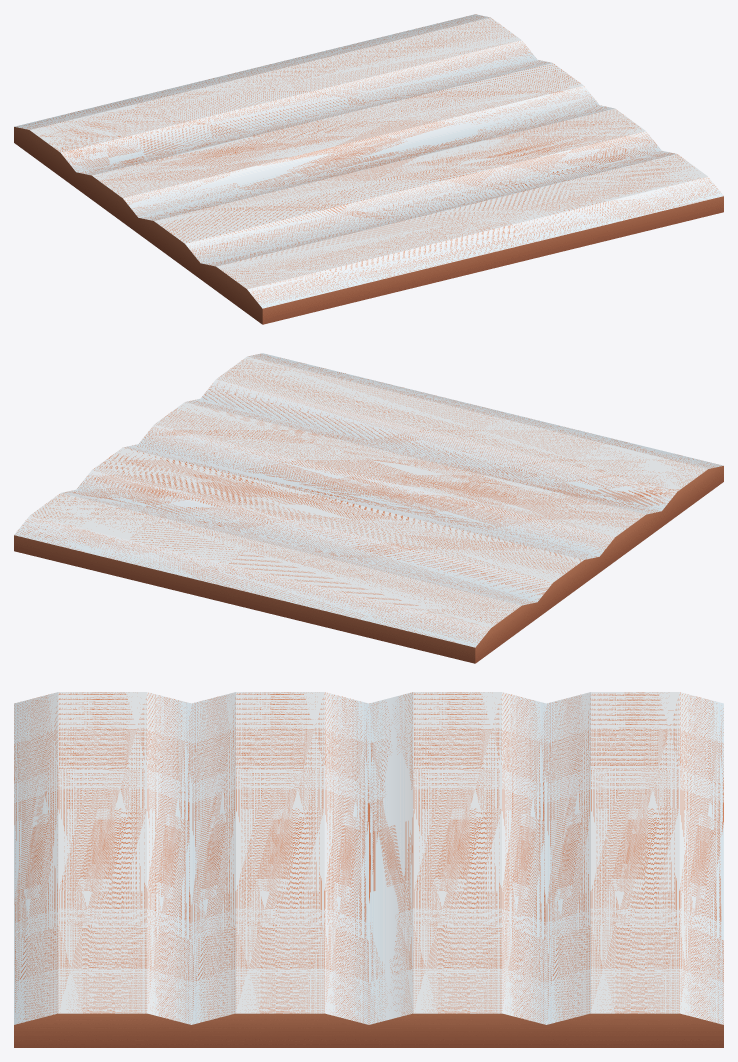
The model's file is kinh.glb.
3 renders of one model, top to bottom at view 1: azimuth 30°, elevation 25°; view 2: azimuth 150°, elevation 25°; view 3: azimuth 270°, elevation 25°, orthographic. The views are drawn at different scales.
Parts seen in each view (by area): view 1: floor-wood-snow.003; view 2: floor-wood-snow.003; view 3: floor-wood-snow.003.
Boxes of the visible parts, <box> form: floor-wood-snow.003: <box>14,14,723,324</box>; floor-wood-snow.003: <box>14,353,723,663</box>; floor-wood-snow.003: <box>14,692,723,1047</box>.
Bounding box in the file's own units: 1.5 × 0.075 × 1.4.
1 material, 1 textured.
